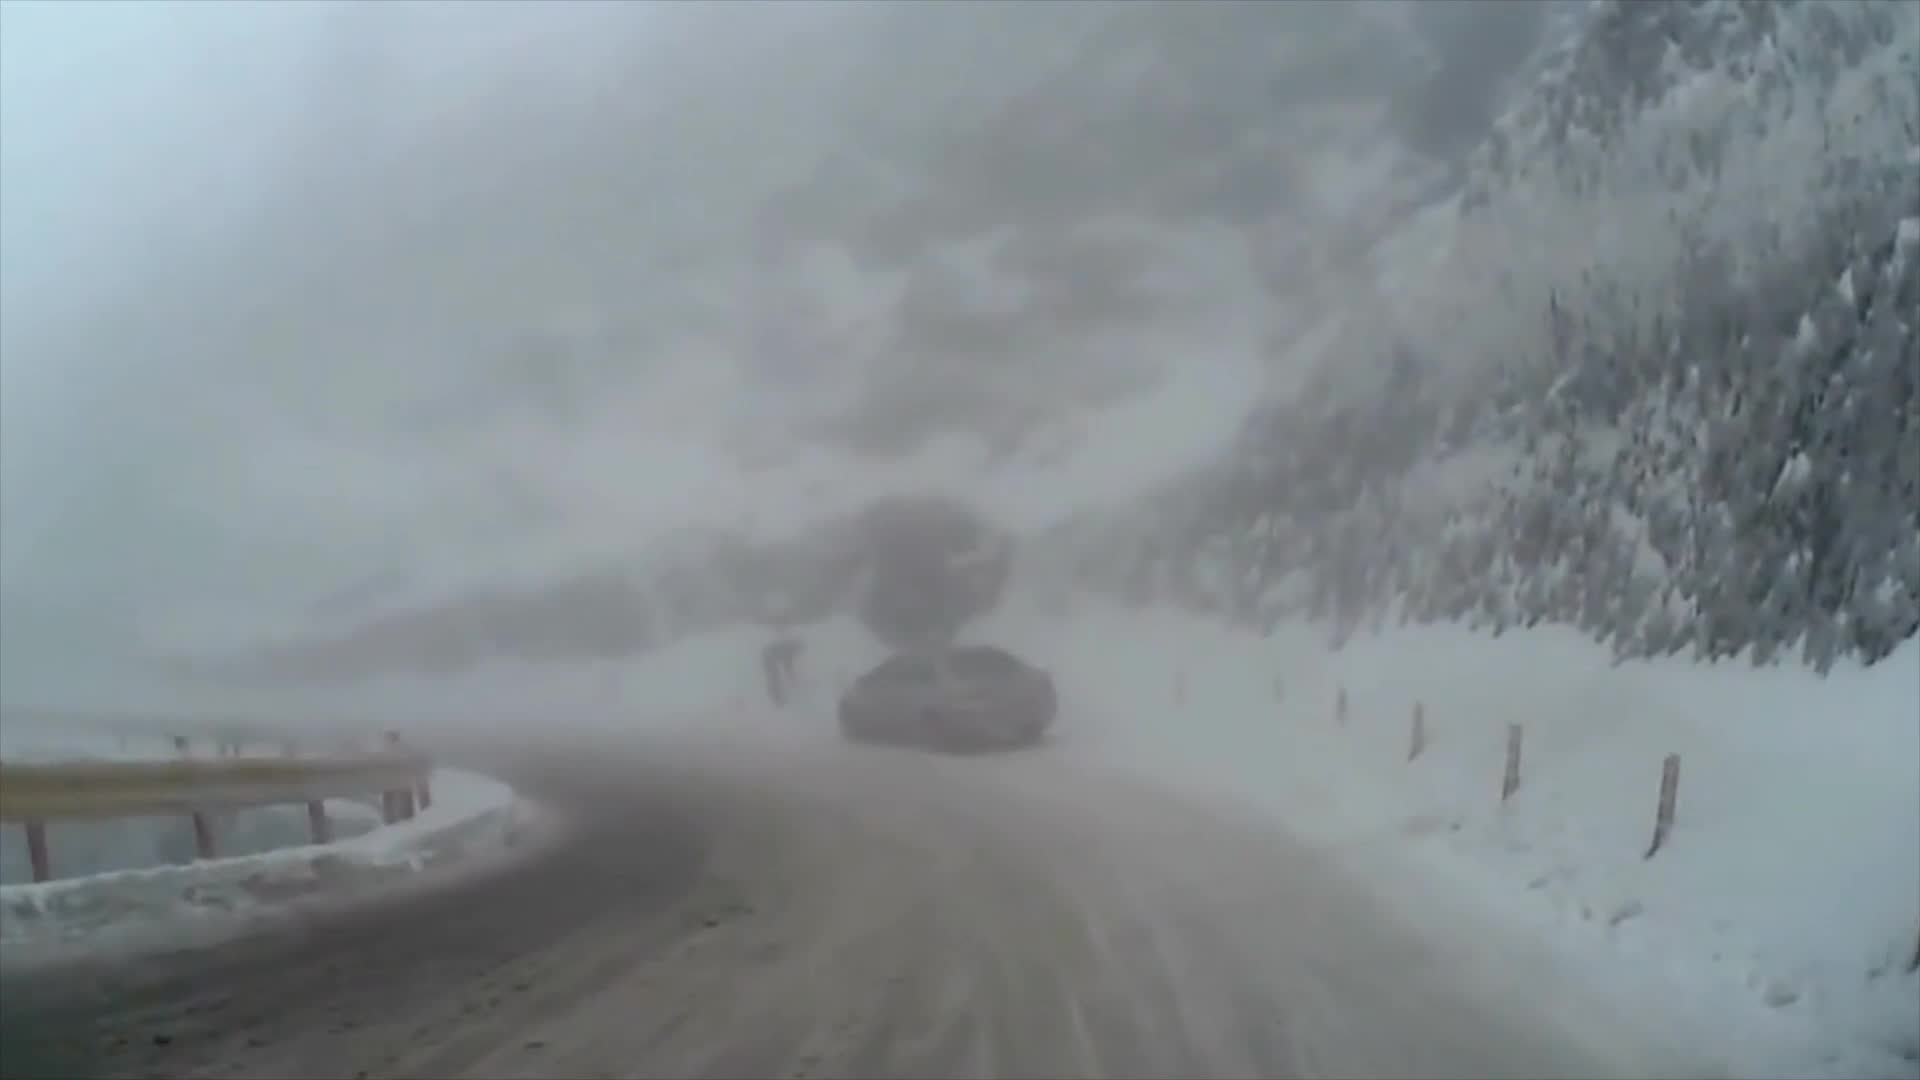pedestrian: (763, 639, 809, 707)
vehicle: (839, 649, 1058, 761)
